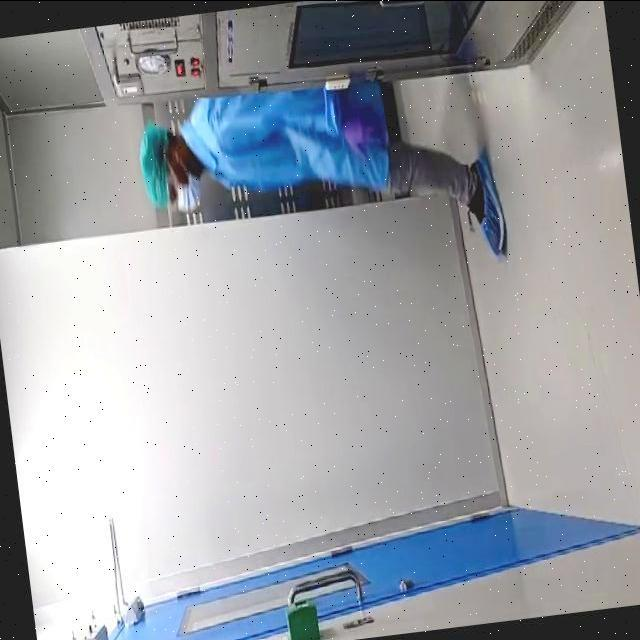apron: (337, 106, 391, 154)
